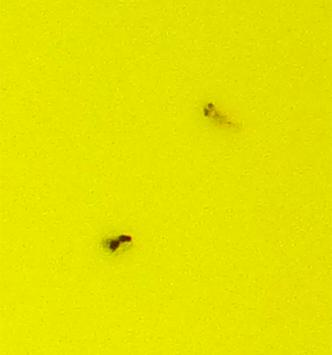Hemiptera: (201, 100, 232, 126)
Hymenoptera: (100, 231, 134, 255)
